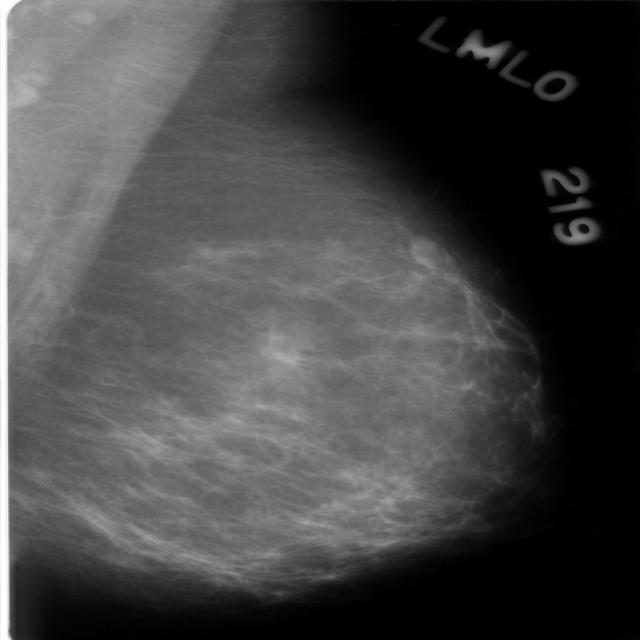tumour: (405, 232, 438, 268)
